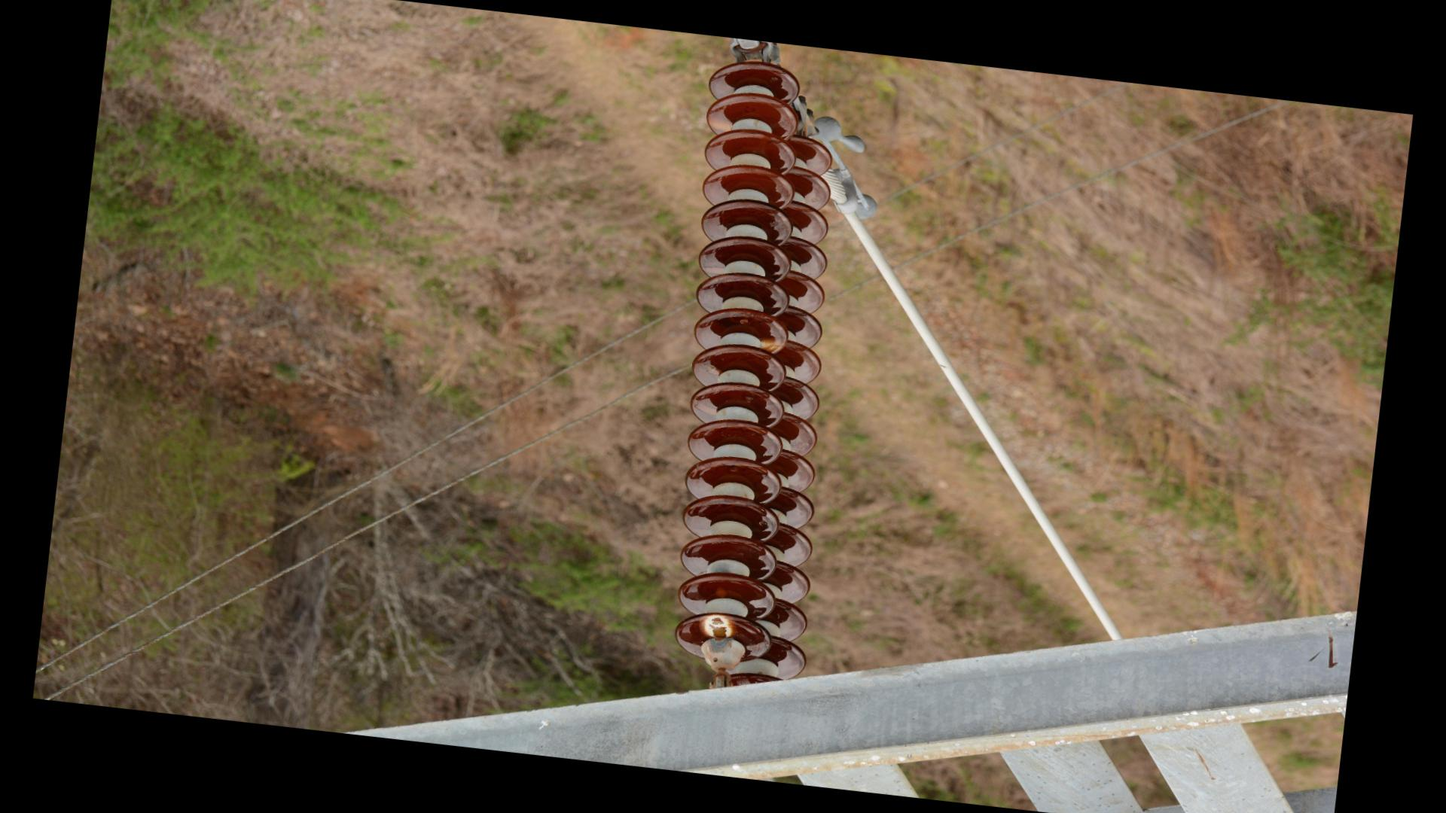damper: (800, 111, 889, 227)
